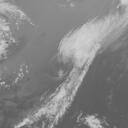cyclone: (58, 17, 99, 79)
